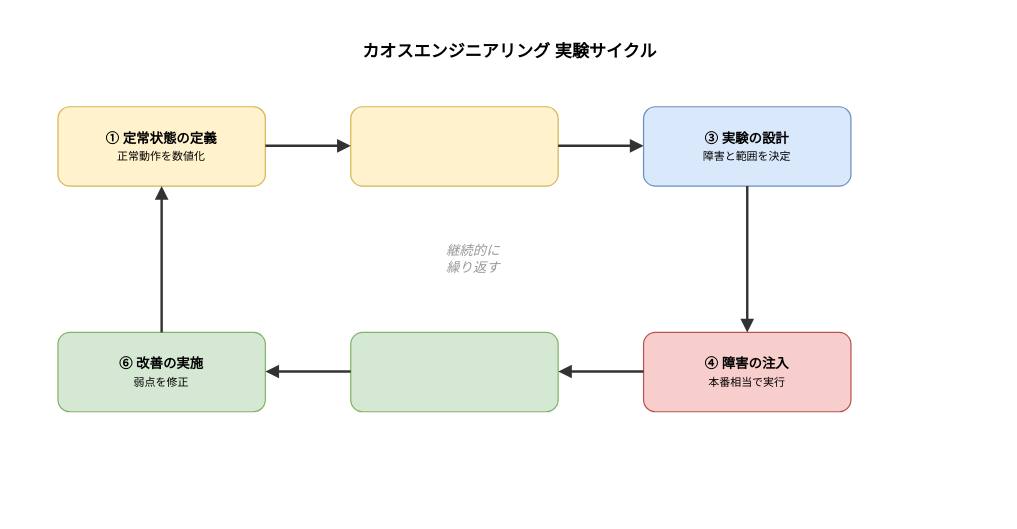
Image size: 1017x529. Some labels were removed from this diagram. The centre of each missing label's shape, as x and y in pixels:
② 仮説の構築 障害時の振る舞いを予測: the point at 454,146
⑤ 結果の分析 仮説との差異を特定: the point at 454,371
